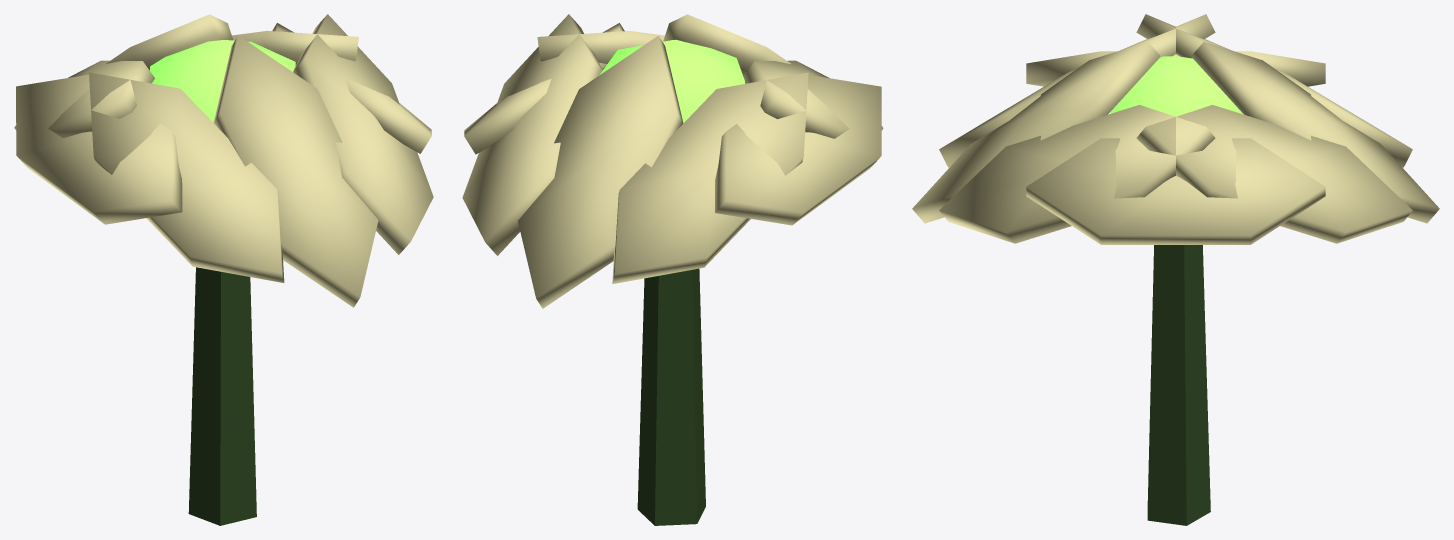
File: flower_bloom.glb
3 views of the same model, side by side, from view 1: azimuth 30°, elevation 25°; view 2: azimuth 150°, elevation 25°; view 3: azimuth 270°, elevation 25° (orthographic). The views are drawn at different scales.
Visible parts, largest first — view 1: part.flower_bloom; view 2: part.flower_bloom; view 3: part.flower_bloom.
Boxes of the visible parts, x1,y1,x2,y2 form: part.flower_bloom: (14, 14, 433, 525); part.flower_bloom: (462, 14, 883, 525); part.flower_bloom: (912, 14, 1439, 525).
Bounding box in the file's own units: 0.2166 × 0.2976 × 0.3027.
